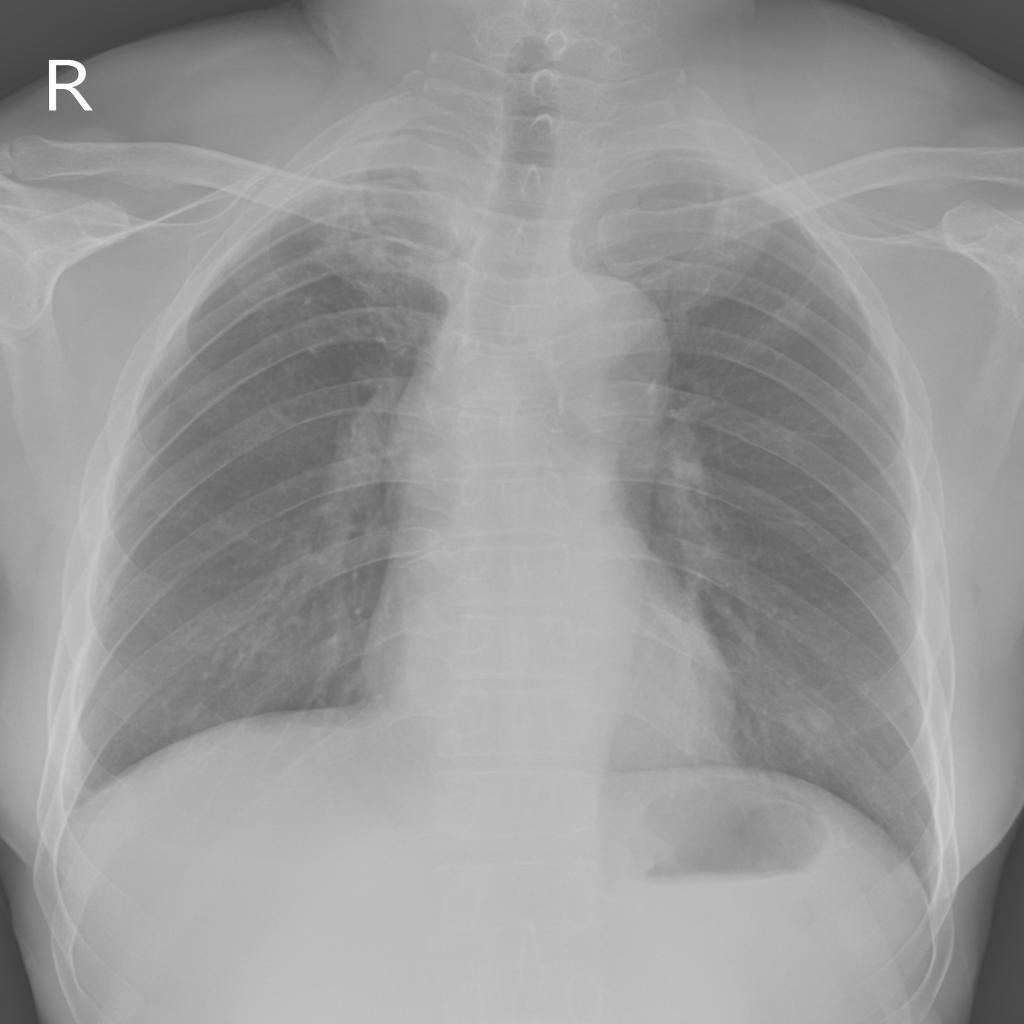Nodule: (806, 706, 835, 734)
